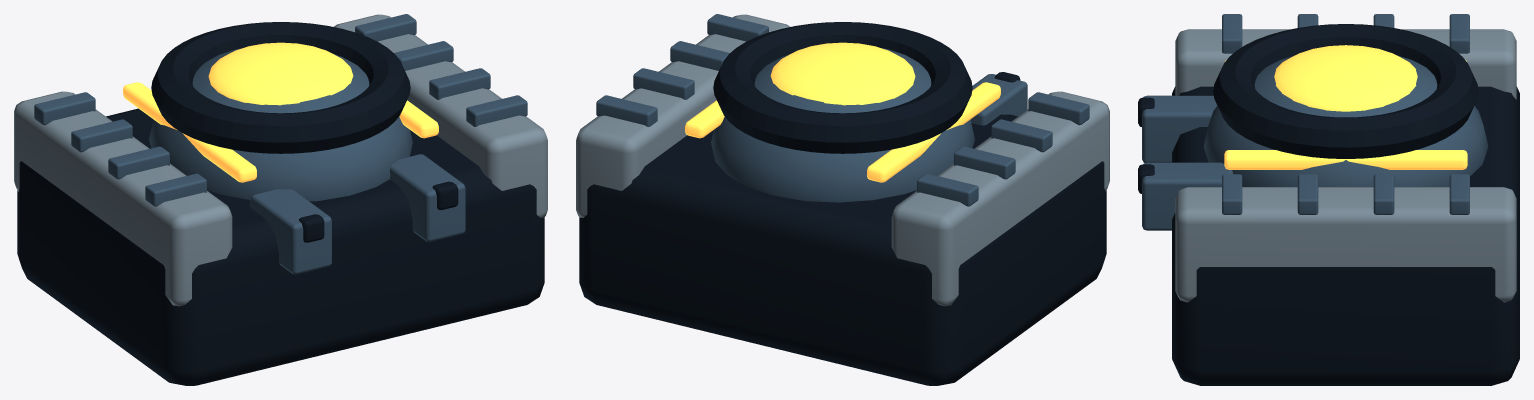
File: forge-emitter.glb
The picture shows the model from 3 angles, left to right: view 1: azimuth 30°, elevation 25°; view 2: azimuth 150°, elevation 25°; view 3: azimuth 270°, elevation 25°; orthographic projection. The views are drawn at different scales.
Visible parts, largest first — view 1: Cube; view 2: Cube; view 3: Cube.
Part boxes in pixels (box(x1,y1,x2,y2)): Cube: box(14, 14, 547, 385); Cube: box(576, 14, 1109, 385); Cube: box(1138, 14, 1519, 385).
Bounding box in the file's own units: 1.42 × 0.835 × 1.21.
